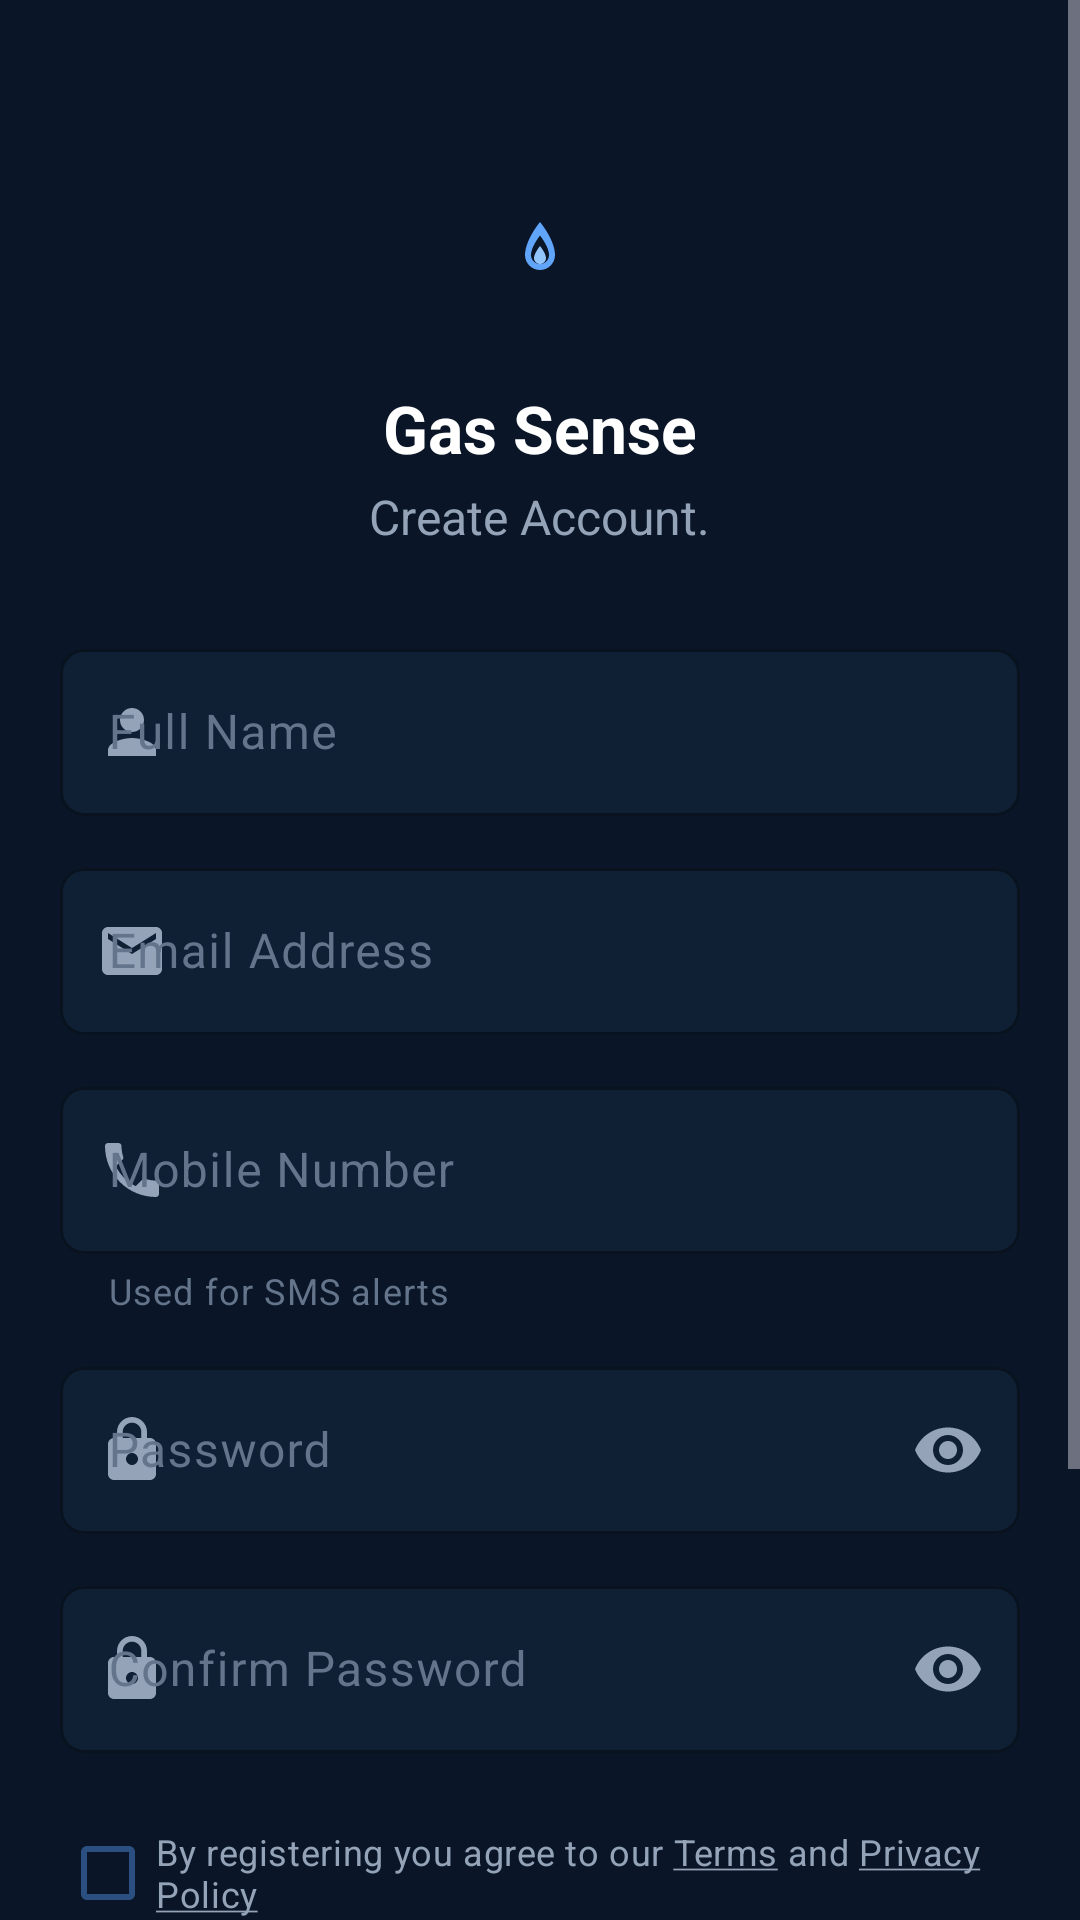

Locate icon controls on the screen. Image size 1080x1920, boxes as (x1, y1, x2, y2).
gas flame: (525, 222, 555, 270)
